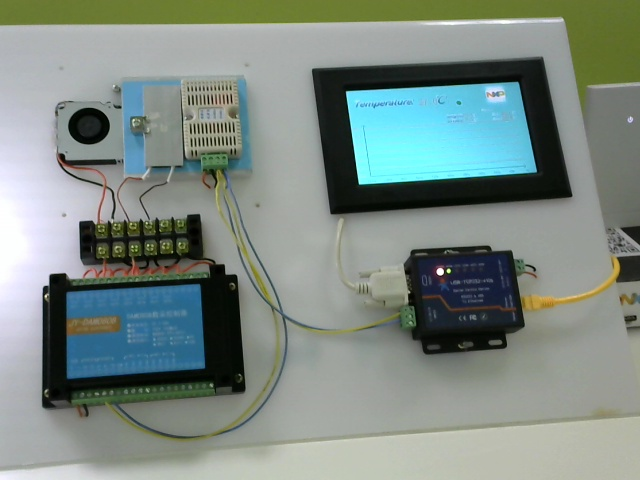fan: (49, 92, 120, 182)
heater: (138, 81, 184, 174)
modbus bridge: (410, 238, 533, 358)
relay: (38, 268, 259, 413)
termperature: (182, 77, 249, 169)
